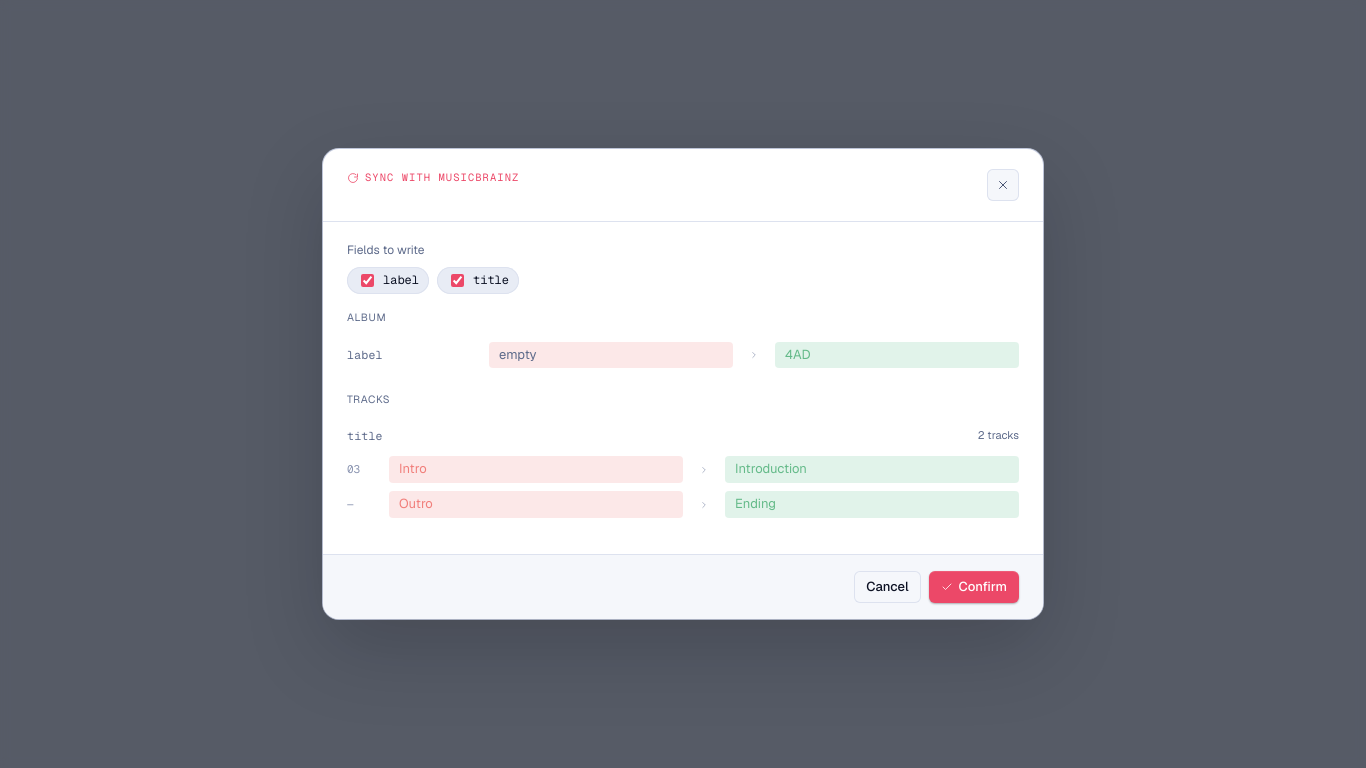
AlbumMbsyncModal › diff state › disables Confirm once every field is excluded
This screenshot has width=1366, height=768.
Click the checkbox labelled "label" at (368, 281), box [361,274,374,287]
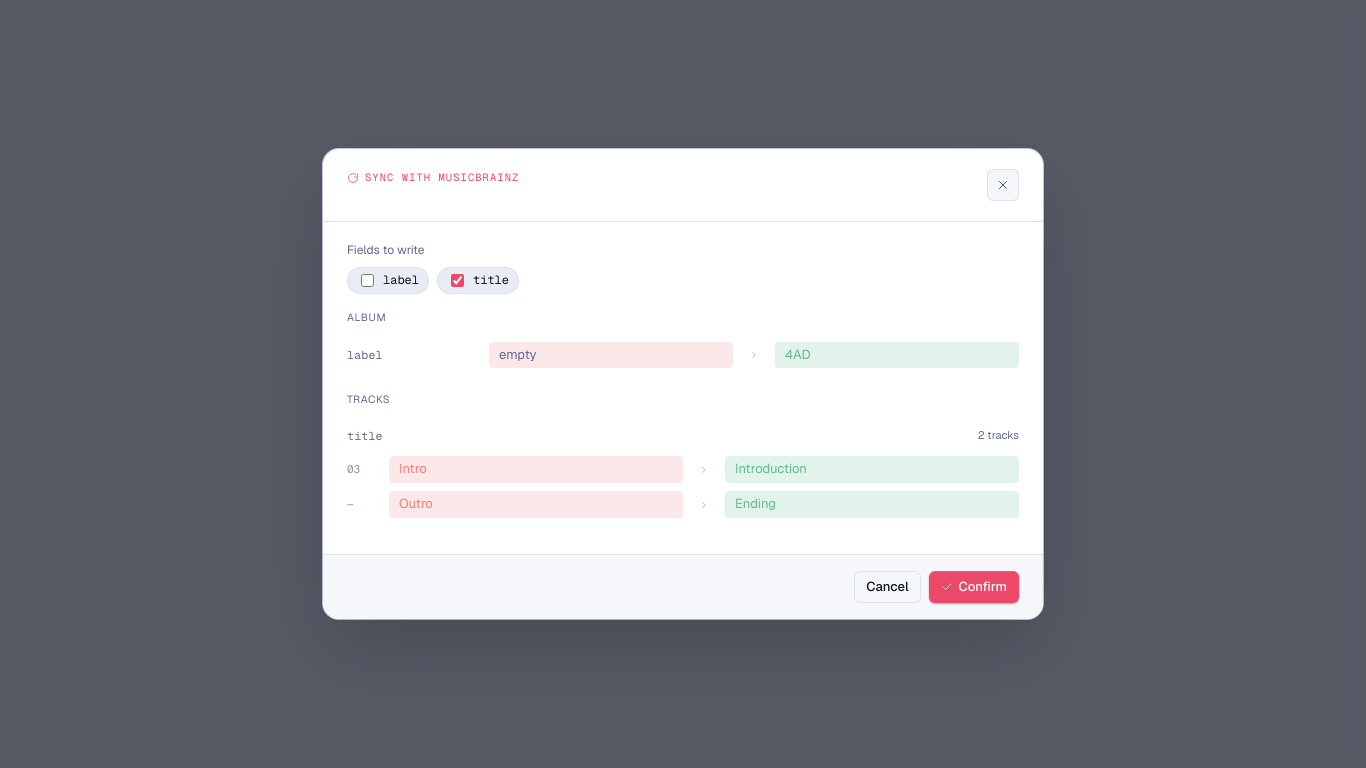
Click the checkbox labelled "title" at (458, 281), box [451,274,464,287]
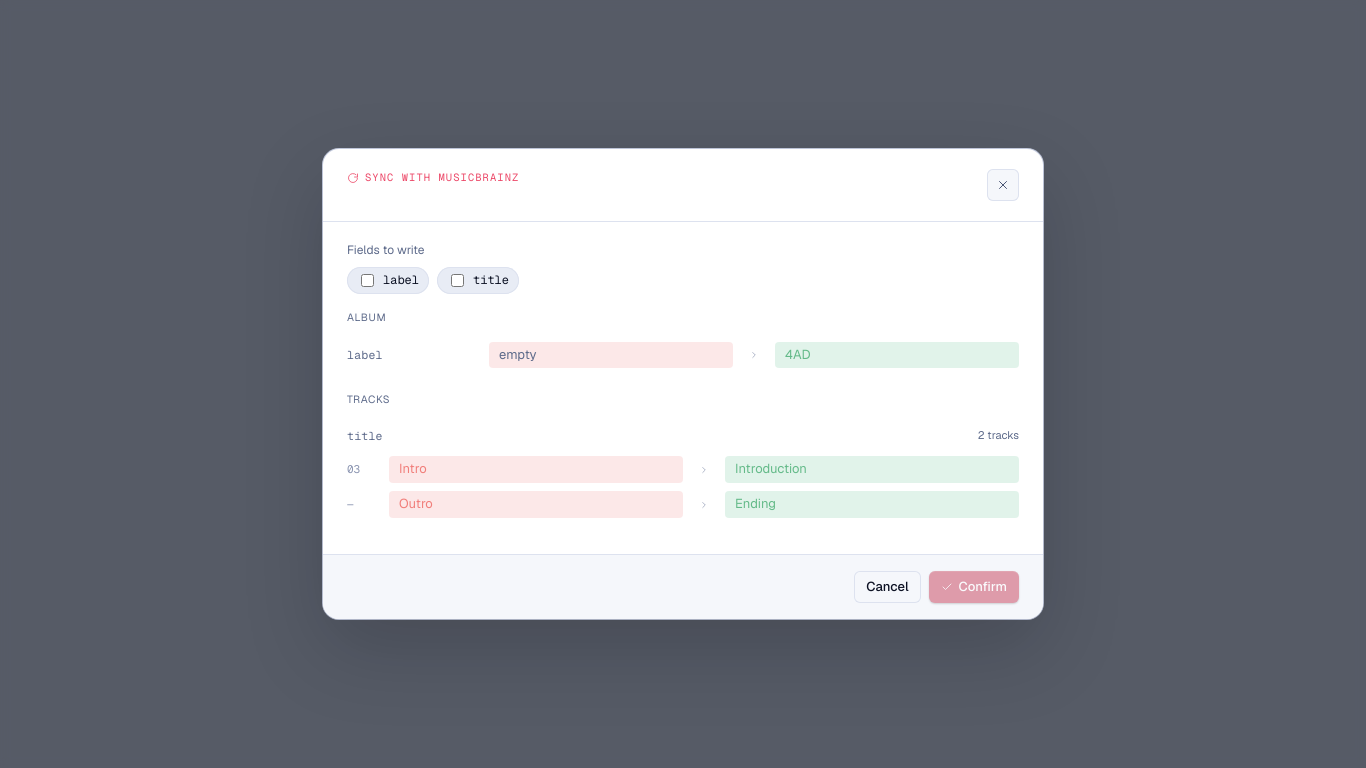
Expected: the button "Confirm" is disabled, [929,571,1019,603]
